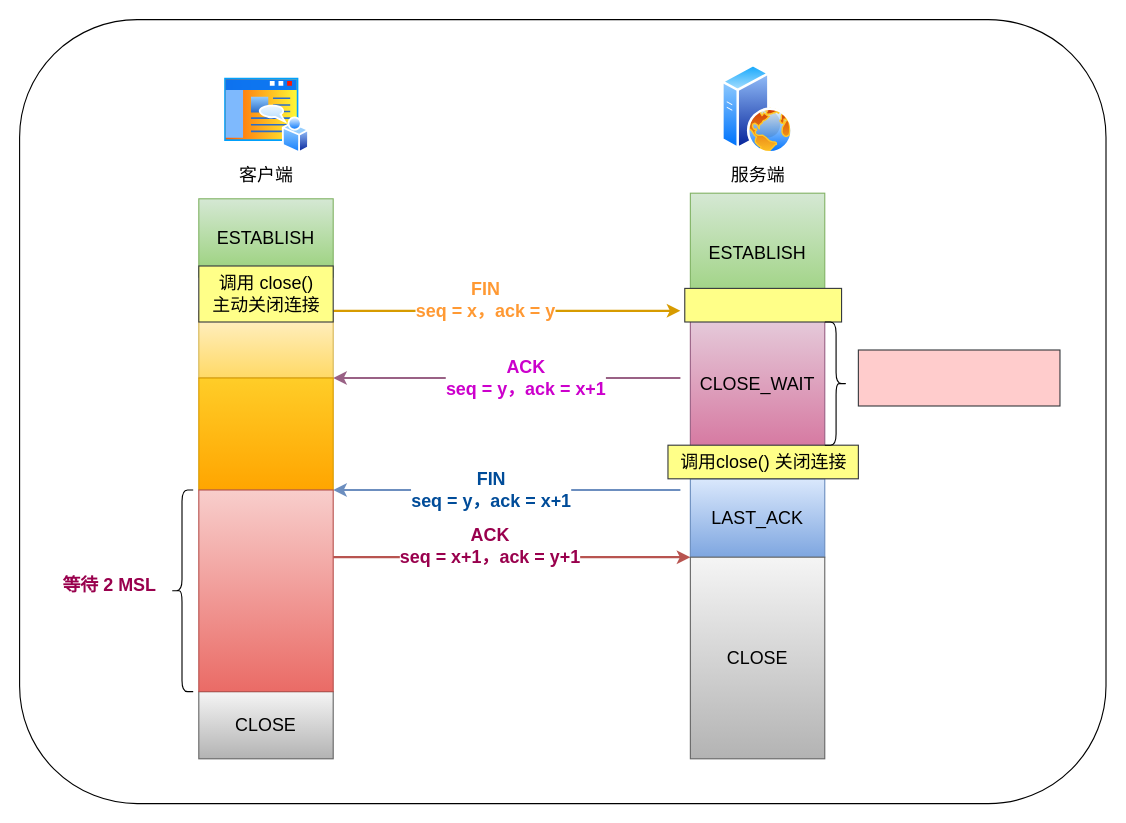
The diagram is 1126 pixels wide and 823 high, and some of its shapes have lost their labels. Here are the shapes that lost their labels. From the top down, the centre of each, then its label:
[763,304]: read() 返回 EOF
[265,344]: FIN_WAIT_1
[958,377]: 在此状态， 服务端可能会传输数据
[265,433]: FIN_WAIT_2
[265,590]: TIME_WAIT
